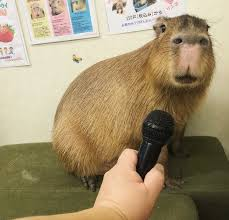capivara: (50, 14, 216, 195)
